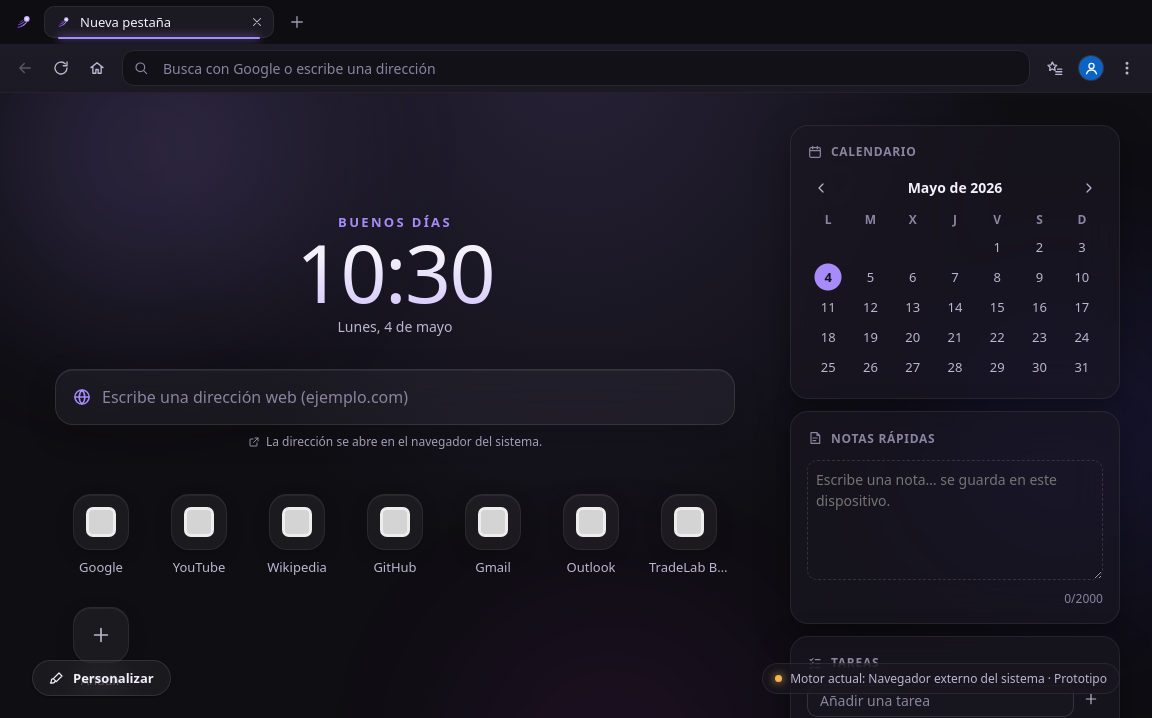
Test case: perfil personalizable › el nombre y el color cambian el círculo de la barra al momento y se guardan
Later steps or results of the test are not shown.
Click the button named "Perfil: Perfil" at {"x": 1091, "y": 68}, box [1074,51,1108,85]
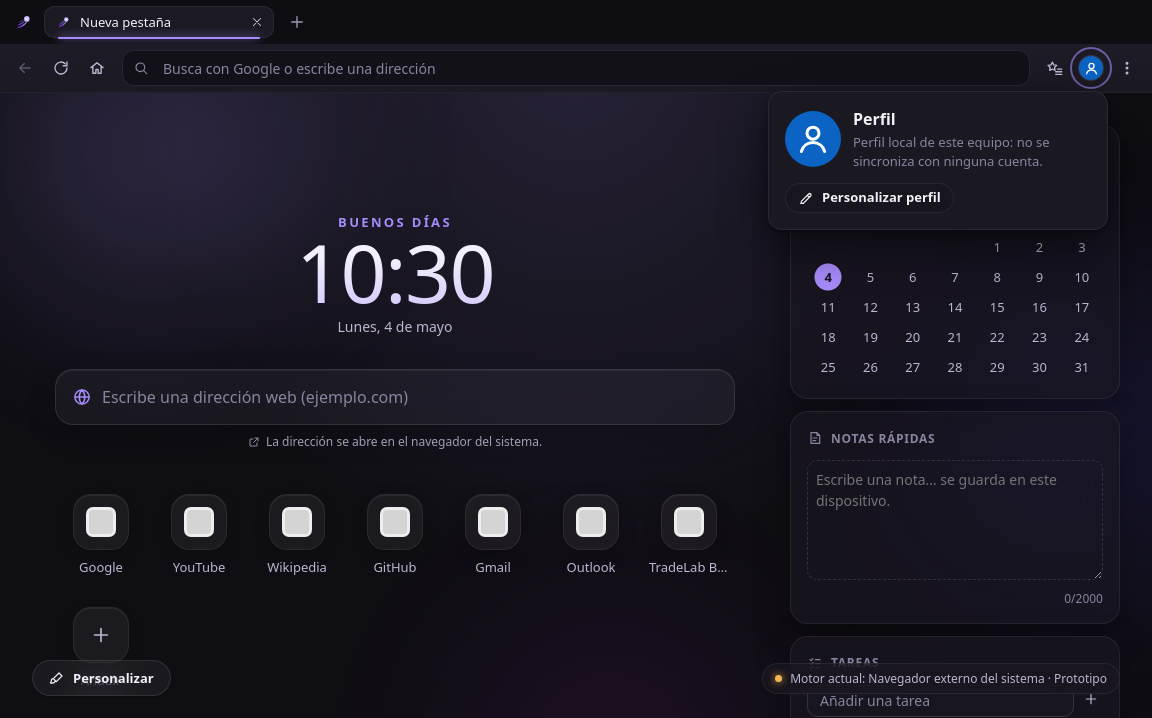
Click the button "Personalizar perfil" at {"x": 869, "y": 198}, box [785,183,954,213]
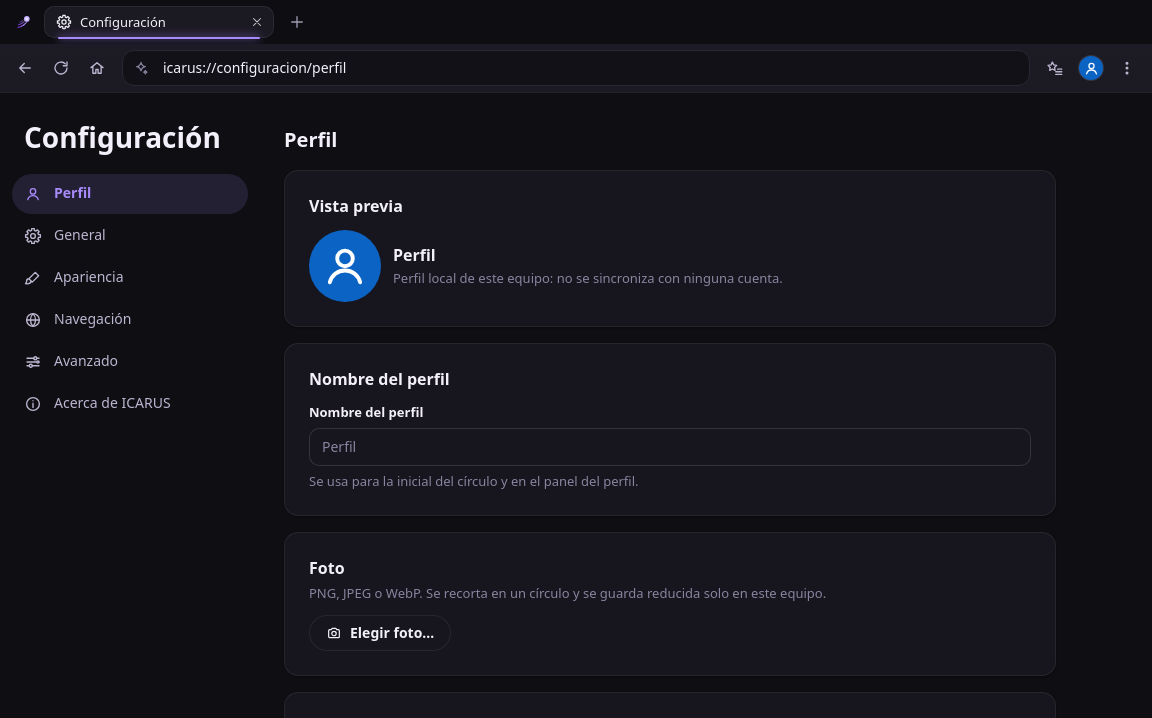
Type "Ícaro" into the field labelled "Nombre del perfil" at {"x": 670, "y": 447}, box [309,428,1031,466]
(page scrolled)
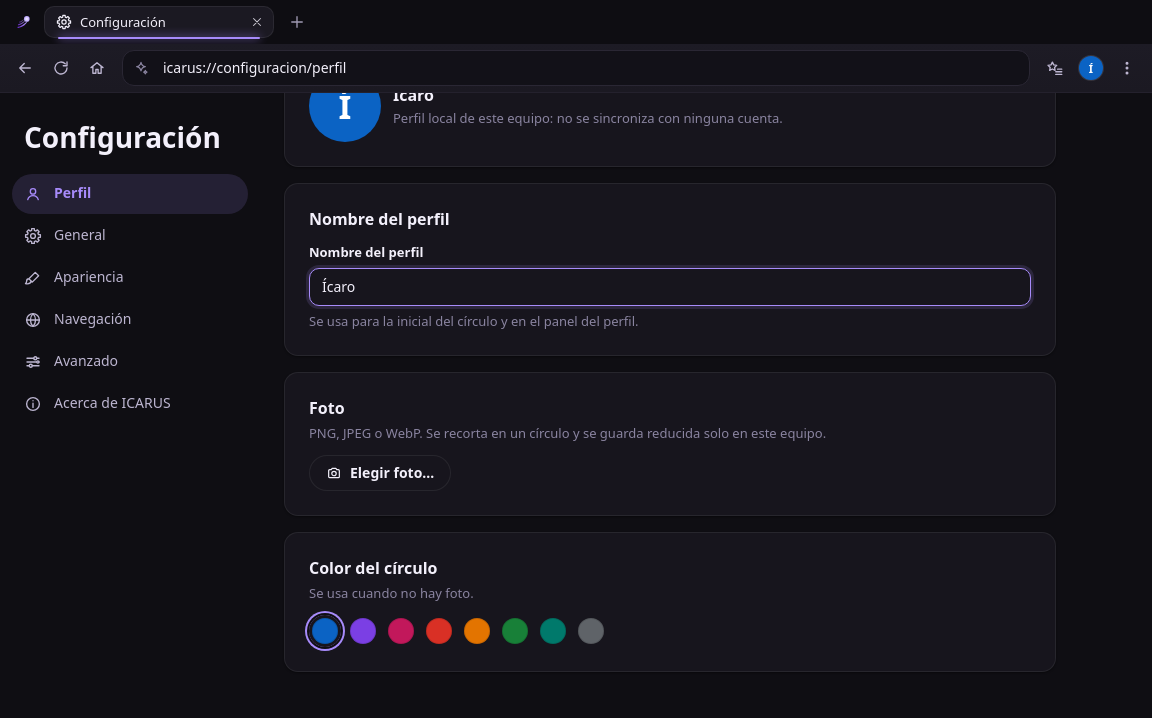
Check: the button named "Perfil: Ícaro" reads "Í", box [1074,51,1108,85]
